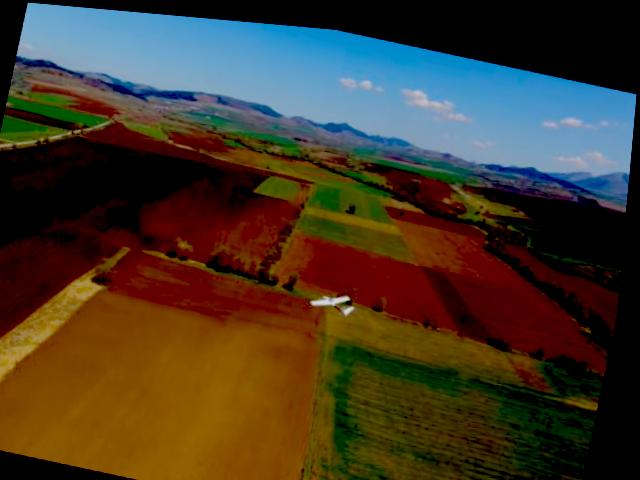uav: (301, 270, 370, 323)
